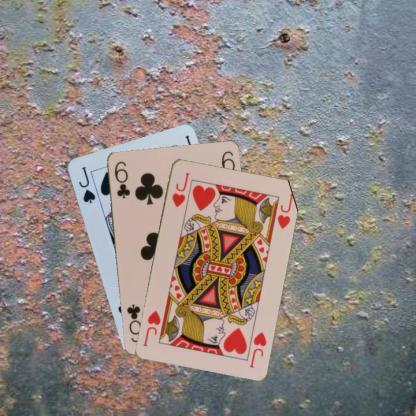6c: (112, 158, 132, 200)
Jh: (246, 328, 268, 370), (169, 169, 191, 208)
Js: (76, 164, 96, 204)
